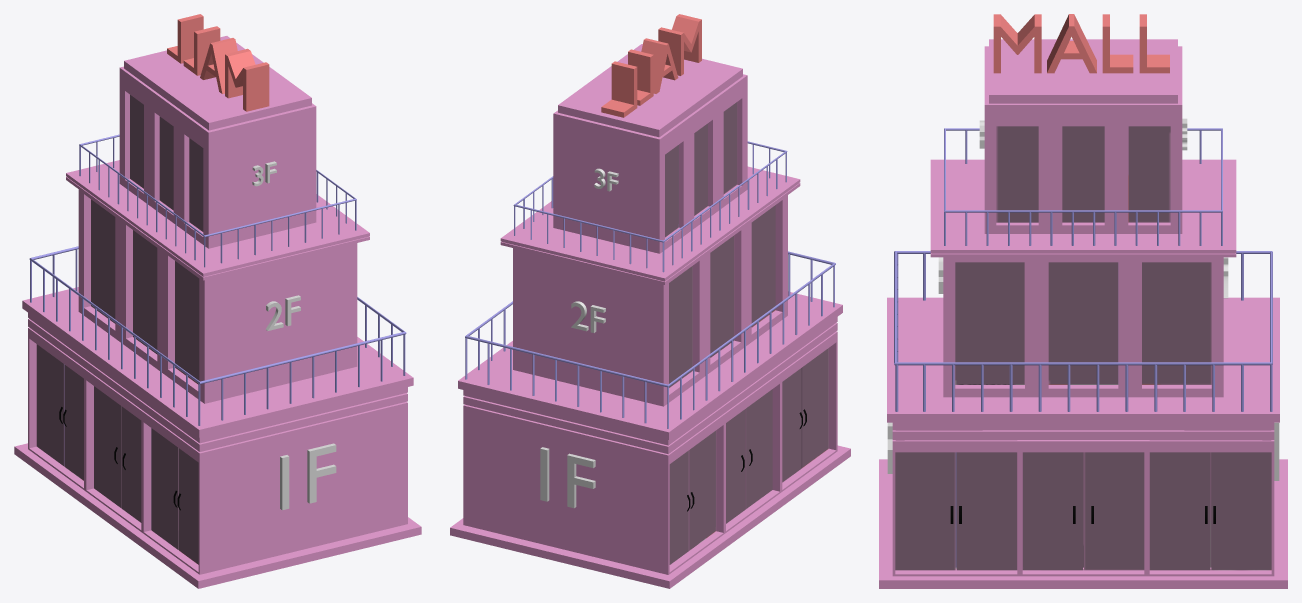
Rendered from 쇼핑몰.fbx.
3 views of the same model, side by side, from view 1: azimuth 30°, elevation 25°; view 2: azimuth 150°, elevation 25°; view 3: azimuth 270°, elevation 25° (orthographic). The views are drawn at different scales.
Parts seen in each view (by area): view 1: Mall; view 2: Mall; view 3: Mall.
Boxes of the visible parts, <box> form: Mall: <box>14,14,421,588</box>; Mall: <box>450,14,850,588</box>; Mall: <box>879,14,1287,588</box>.
Bounding box in the file's own units: 175 × 343 × 250.
6 materials, 1 textured.
